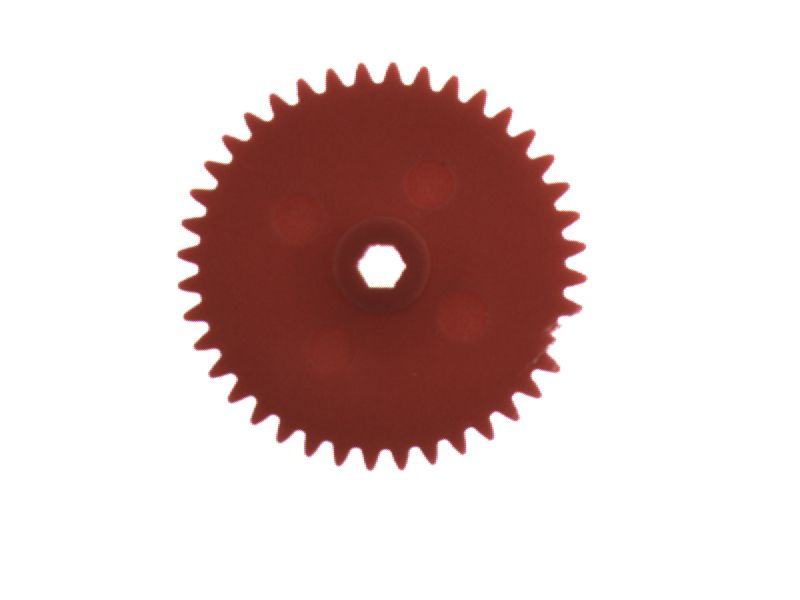defect_lack: (528, 304, 593, 371)
